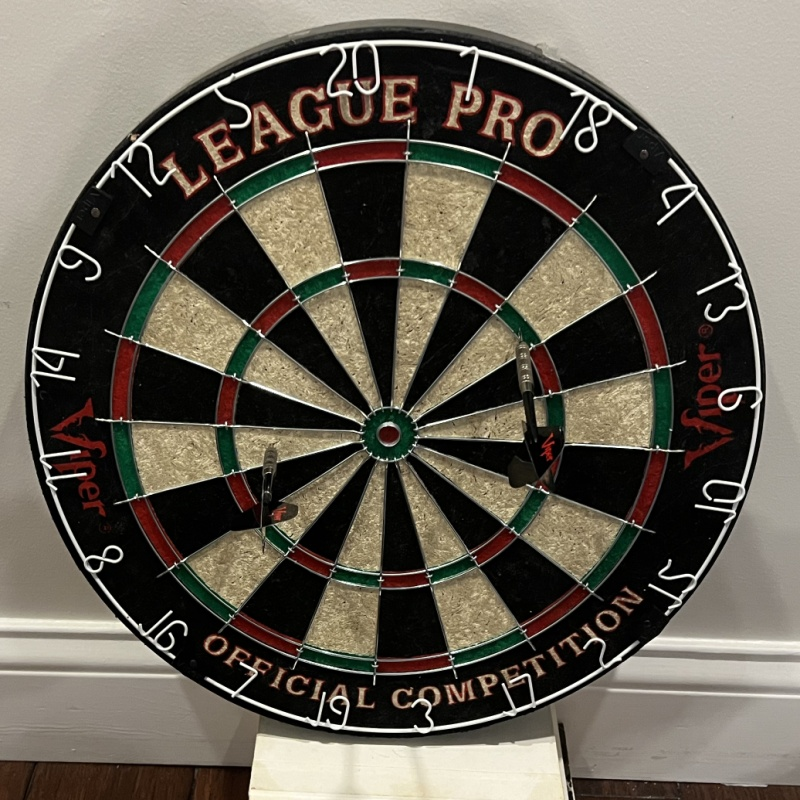dart: (509, 326, 538, 368), (260, 443, 285, 470)
eleven: (40, 450, 88, 490)
six: (717, 385, 762, 412)
three: (409, 698, 436, 732)
twenty: (319, 40, 380, 96)
